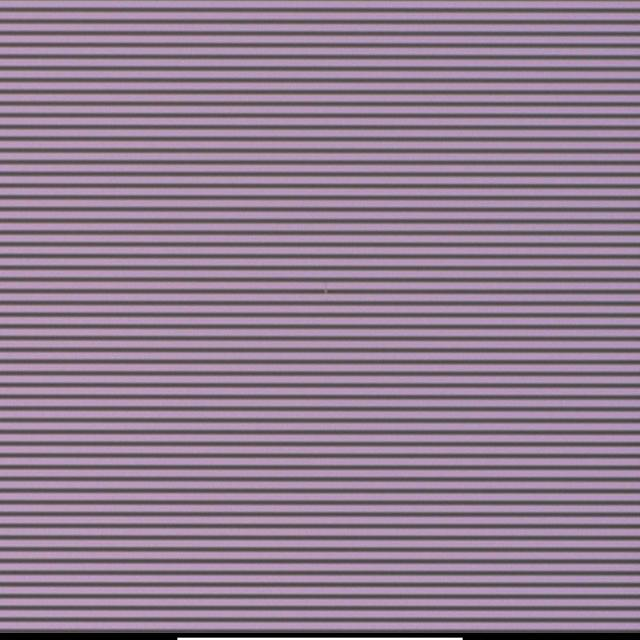03_intrusion: (324, 286, 330, 296)
